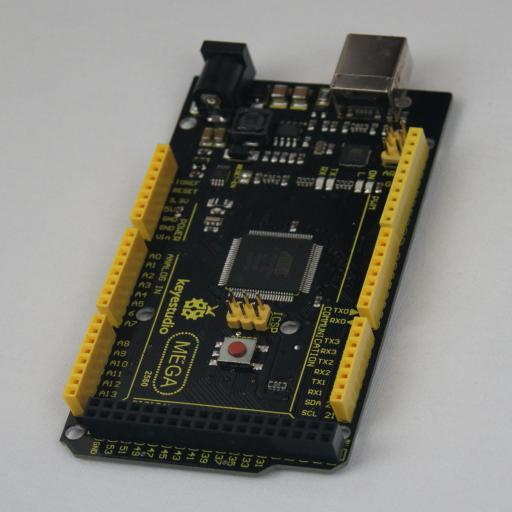Arduino Mega 2560 -Black and Yellow-: (60, 34, 452, 478)
